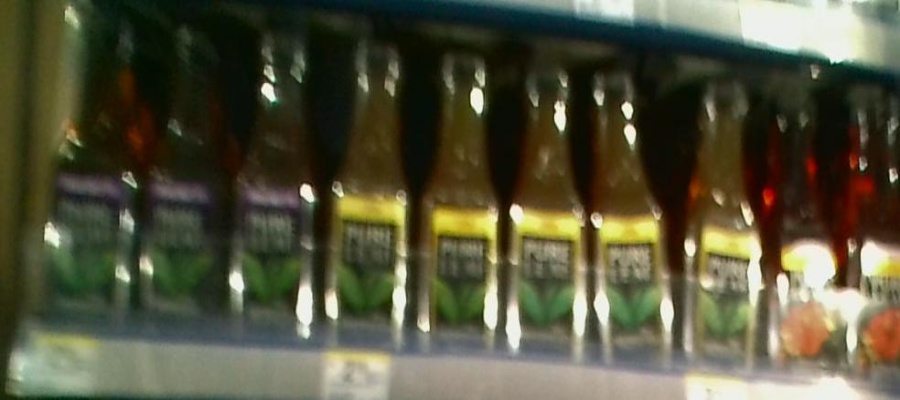bottle: (46, 1, 139, 320), (230, 10, 316, 333), (327, 20, 412, 345), (139, 8, 224, 329), (417, 29, 503, 344), (592, 65, 680, 348), (509, 37, 589, 346), (684, 70, 762, 355), (768, 61, 837, 369), (841, 82, 900, 372)
